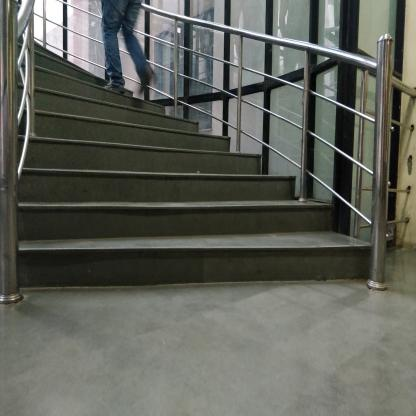stairs: (70, 157, 262, 307)
